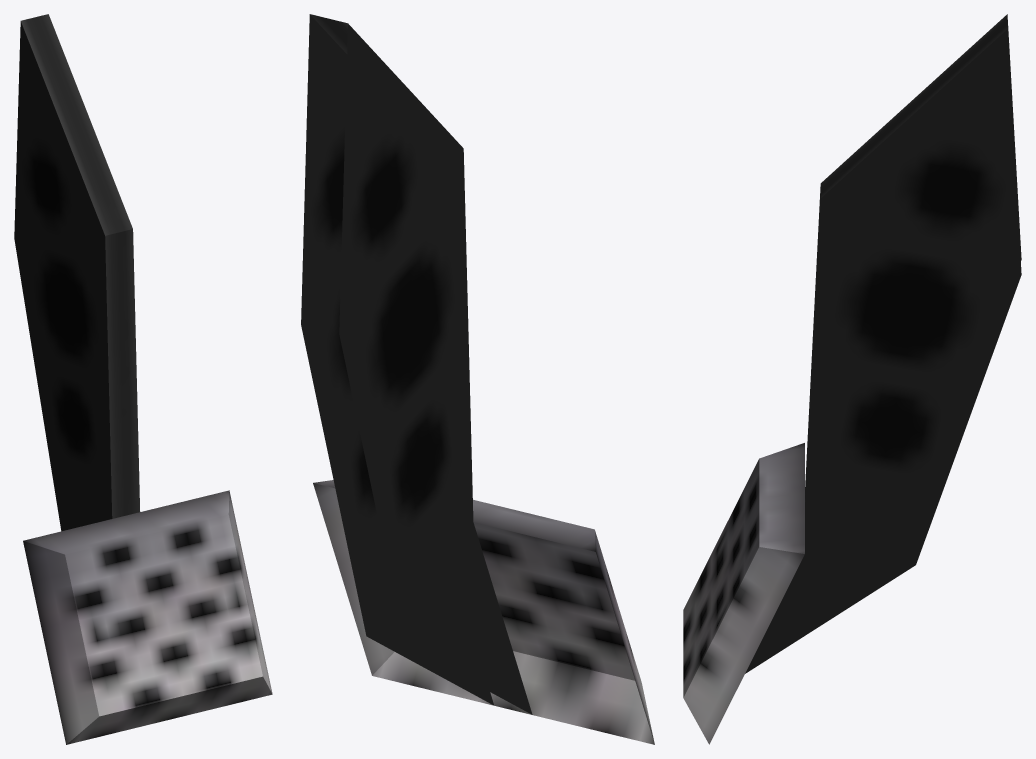
The model's file is polaris_pedal_brake.dae.
3 views of the same model, side by side, from view 1: azimuth 30°, elevation 25°; view 2: azimuth 150°, elevation 25°; view 3: azimuth 270°, elevation 25° (orthographic). The views are drawn at different scales.
Parts seen in each view (by area): view 1: Pedal_brake; view 2: Pedal_brake; view 3: Pedal_brake.
Part boxes in pixels (x1,y1,x2,y2): Pedal_brake: [14, 14, 272, 744]; Pedal_brake: [301, 14, 654, 744]; Pedal_brake: [683, 14, 1021, 744].
Size of the model in its own units: 3.56 by 4.56 by 9.93.
Materials: 1 (1 with a texture image).
